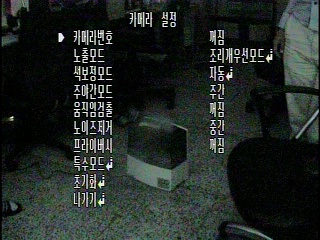smoke: (137, 108, 178, 133)
